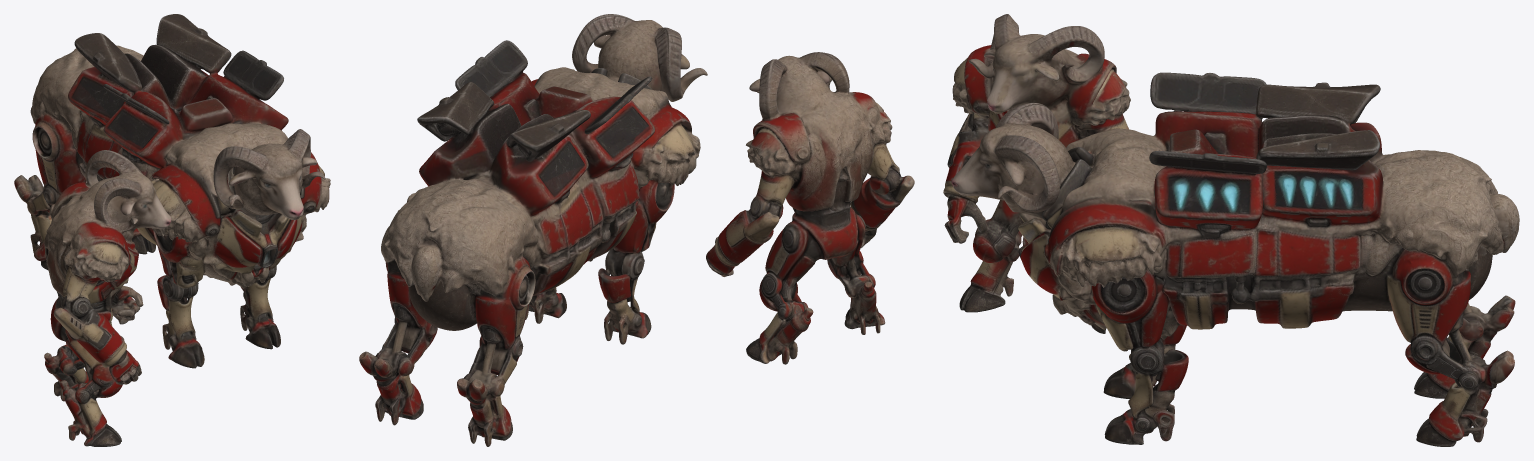
The model's file is Meshy_AI_Cyber_Rams_of_the_Was_0921225908_texture.glb.
The picture shows the model from 3 angles, left to right: view 1: azimuth 30°, elevation 25°; view 2: azimuth 150°, elevation 25°; view 3: azimuth 270°, elevation 25°; orthographic projection. The views are drawn at different scales.
Size of the model in its own units: 1.47 by 1.11 by 1.9.
1 material, 1 textured.
